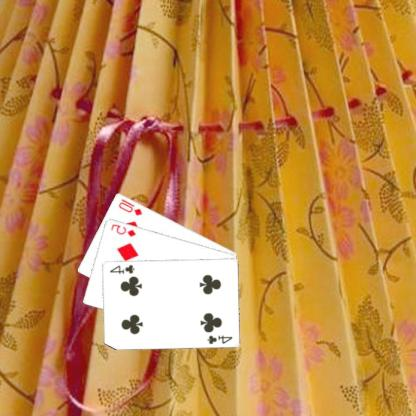10D: (118, 196, 145, 216)
4C: (206, 332, 235, 345), (108, 262, 138, 274)
5D: (110, 221, 139, 238)
